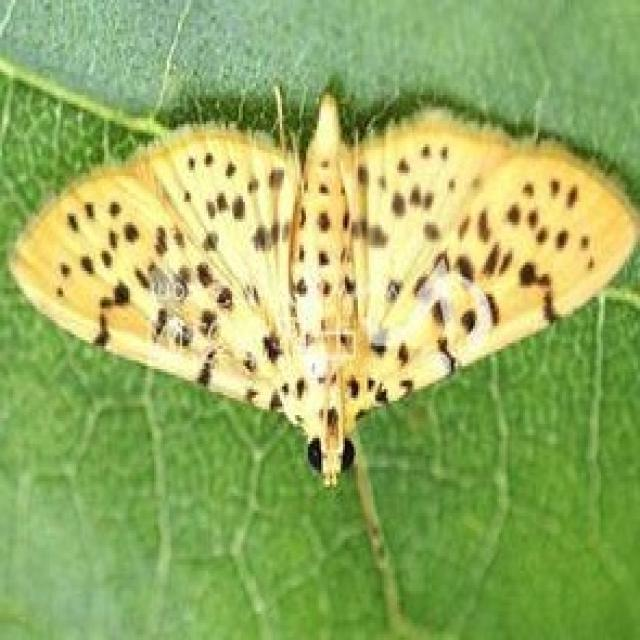peach borer: (2, 72, 638, 501)
